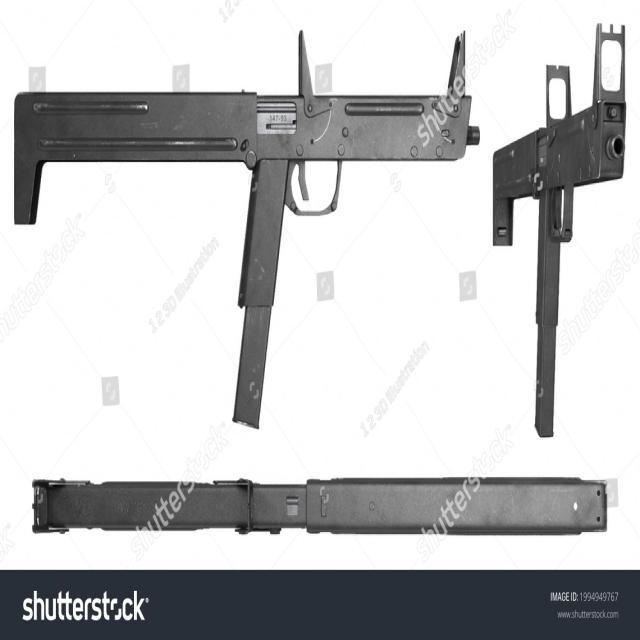smg: (1, 19, 486, 462), (486, 16, 633, 454)
